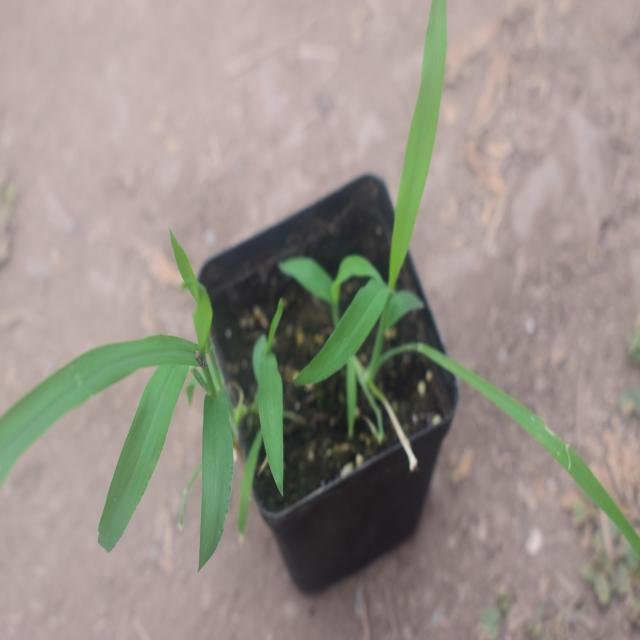crabgrass: (2, 238, 334, 520), (286, 6, 476, 427)
